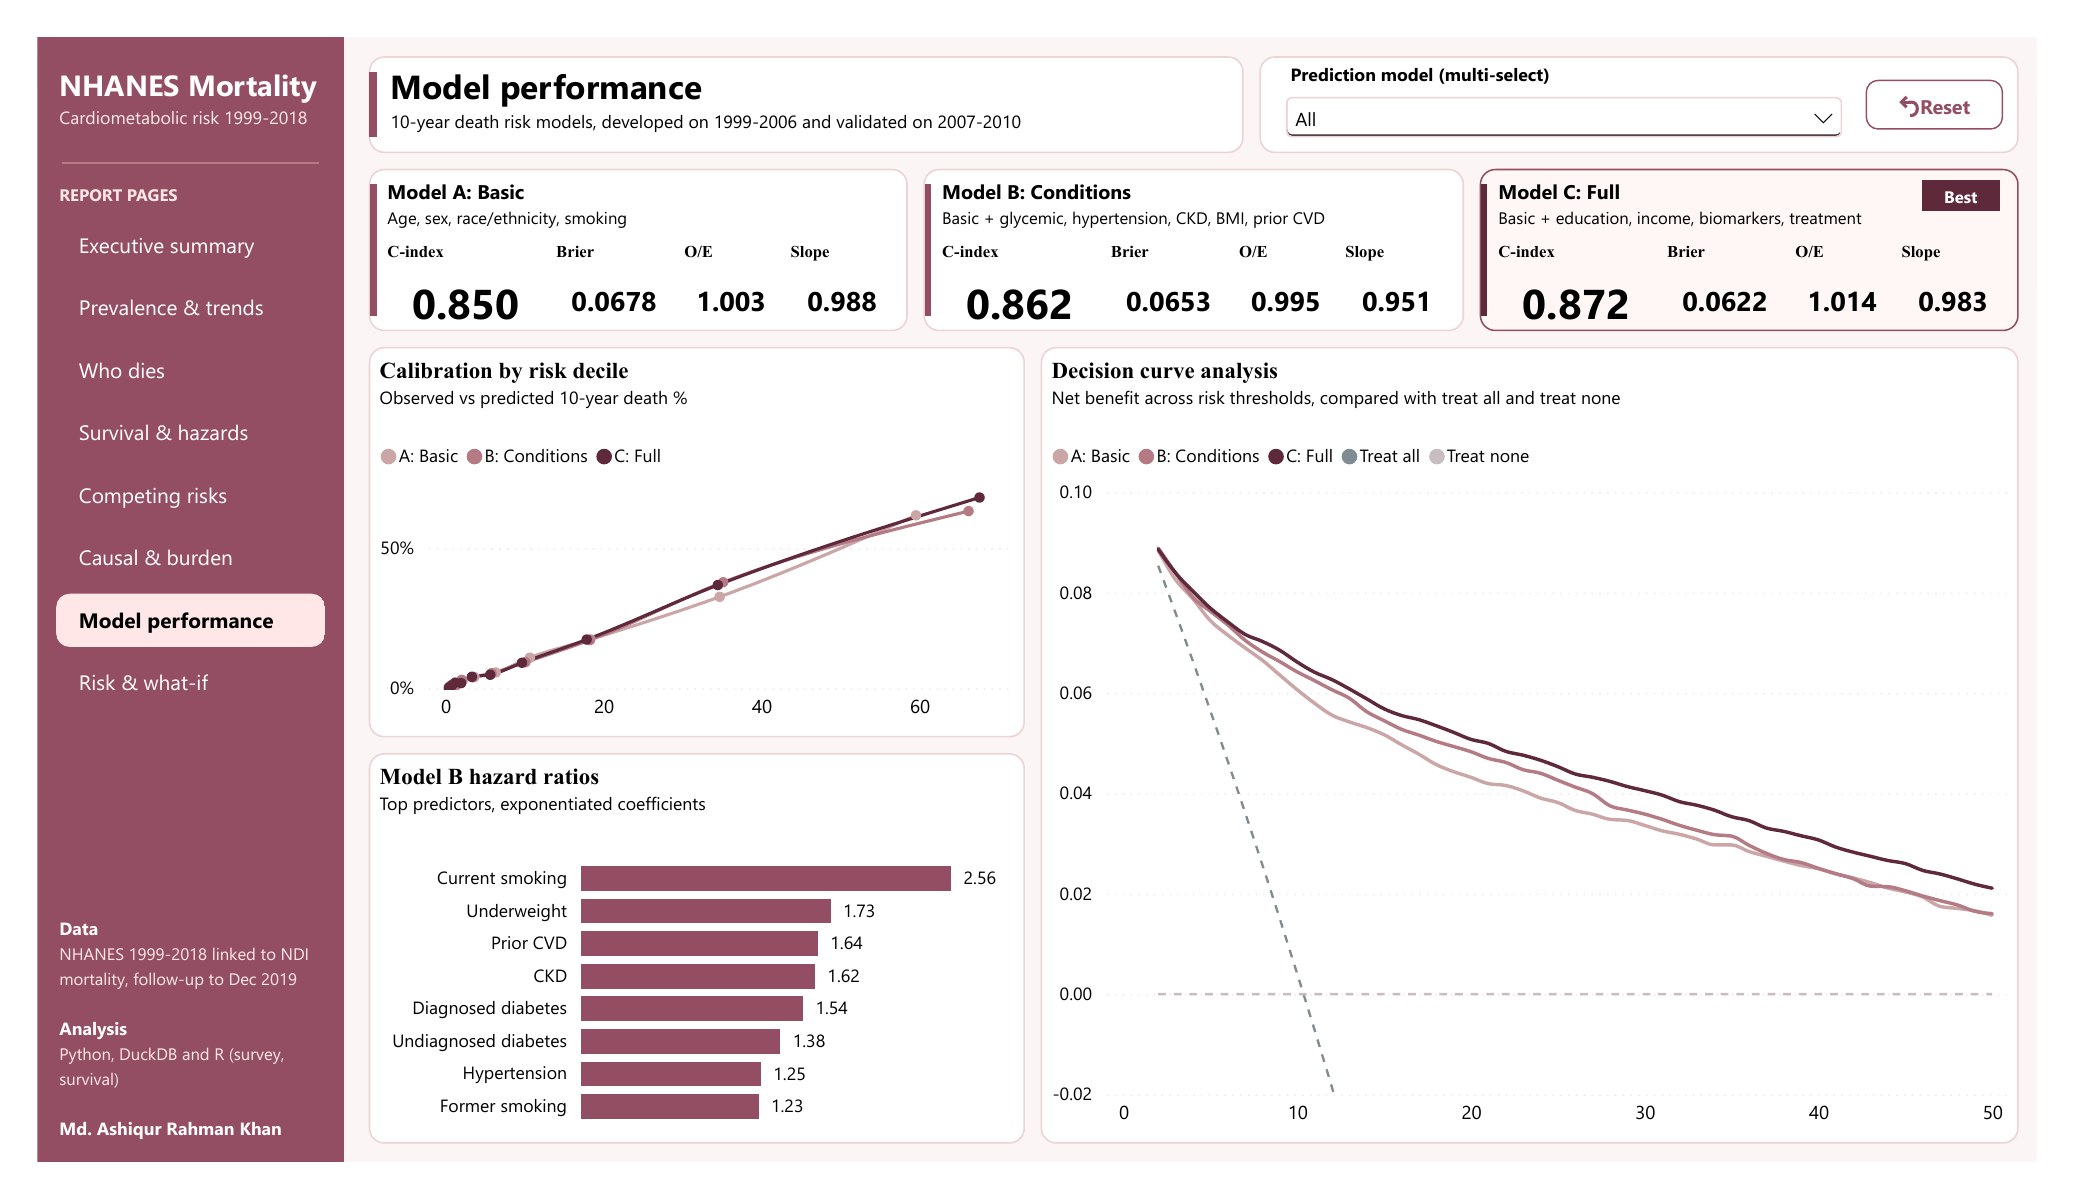

What the dashboard file says about the page in this screenshot:
{"tool":"powerbi","page":{"name":"Model performance","canvas":[1280,720],"ordinal":6},"visuals":[{"type":"shape","box":[0,0,196,720],"z":1100},{"type":"textbox","box":[12,16,176,56],"z":1200},{"type":"shape","box":[16,80,164,1],"z":1300},{"type":"textbox","box":[12,90,176,22],"z":1400},{"type":"actionButton","box":[12,116,172,34],"z":1500},{"type":"actionButton","box":[12,156,172,34],"z":1600},{"type":"actionButton","box":[12,196,172,34],"z":1700},{"type":"actionButton","box":[12,236,172,34],"z":1800},{"type":"actionButton","box":[12,276,172,34],"z":1900},{"type":"actionButton","box":[12,316,172,34],"z":2000},{"type":"actionButton","box":[12,356,172,34],"z":2100},{"type":"actionButton","box":[12,396,172,34],"z":2200},{"type":"textbox","box":[12,560,176,150],"z":2300},{"type":"shape","box":[212,12,560,62],"z":2400},{"type":"shape","box":[212,22,5,42],"z":2500},{"type":"textbox","box":[224,15,542,56],"z":2600},{"type":"shape","box":[782,12,486,62],"z":2700},{"type":"actionButton","box":[1170,27,88,32],"z":2800},{"type":"slicer","fields":{"Values":["dim_prediction_model.model"]},"box":[794,16,366,54],"z":2900},{"type":"shape","box":[212,84,345.3,104],"z":3000},{"type":"shape","box":[213,94,4,84],"z":3100},{"type":"textbox","box":[224,90,321.3,40],"z":3200},{"type":"card","title":"C-index","fields":{"Values":["_Measures.C-index"]},"box":[222,130,104,54],"z":3300},{"type":"card","title":"Brier","fields":{"Values":["_Measures.Brier Score"]},"box":[330,130,78,54],"z":3400},{"type":"card","title":"O/E","fields":{"Values":["_Measures.O/E Ratio"]},"box":[412,130,64,54],"z":3500},{"type":"card","title":"Slope","fields":{"Values":["_Measures.Calibration Slope"]},"box":[480,130,70,54],"z":3600},{"type":"shape","box":[567.3,84,345.3,104],"z":3700},{"type":"shape","box":[568.3,94,4,84],"z":3800},{"type":"textbox","box":[579.3,90,321.3,40],"z":3900},{"type":"card","title":"C-index","fields":{"Values":["_Measures.C-index"]},"box":[577.3,130,104,54],"z":4000},{"type":"card","title":"Brier","fields":{"Values":["_Measures.Brier Score"]},"box":[685.3,130,78,54],"z":4100},{"type":"card","title":"O/E","fields":{"Values":["_Measures.O/E Ratio"]},"box":[767.3,130,64,54],"z":4200},{"type":"card","title":"Slope","fields":{"Values":["_Measures.Calibration Slope"]},"box":[835.3,130,70,54],"z":4300},{"type":"shape","box":[922.7,84,345.3,104],"z":4400},{"type":"shape","box":[923.7,94,4,84],"z":4500},{"type":"textbox","box":[934.7,90,265.3,40],"z":4600},{"type":"textbox","box":[1206,91,50,20],"z":4700},{"type":"card","title":"C-index","fields":{"Values":["_Measures.C-index"]},"box":[932.7,130,104,54],"z":4800},{"type":"card","title":"Brier","fields":{"Values":["_Measures.Brier Score"]},"box":[1040.7,130,78,54],"z":4900},{"type":"card","title":"O/E","fields":{"Values":["_Measures.O/E Ratio"]},"box":[1122.7,130,64,54],"z":5000},{"type":"card","title":"Slope","fields":{"Values":["_Measures.Calibration Slope"]},"box":[1190.7,130,70,54],"z":5100},{"type":"lineChart","title":"Calibration by risk decile","fields":{"Category":["model_calibration.predicted_pct"],"Series":["dim_prediction_model.model"],"Y":["_Measures.Calibration Observed %"]},"box":[212,198,420,250],"z":5200},{"type":"clusteredBarChart","title":"Model B hazard ratios","fields":{"Category":["model_coefficients.Term Label"],"Y":["_Measures.Coefficient HR"]},"box":[212,458,420,250],"z":5300},{"type":"lineChart","title":"Decision curve analysis","fields":{"Category":["model_decision_curve.threshold_pct"],"Series":["dim_prediction_model.model"],"Y":["_Measures.Net Benefit"]},"box":[642,198,626,510],"z":5400}]}

Visuals, with their boxes on the page's 1280x720 design canvas (x1, y1, x2, y2). These are canvas units, not pixel positions in the 2075x1200 screenshot, which may show the page scaled, cropped or inside an application window:
shape: (left=0, top=0, right=196, bottom=720)
textbox: (left=12, top=16, right=188, bottom=72)
shape: (left=16, top=80, right=180, bottom=81)
textbox: (left=12, top=90, right=188, bottom=112)
actionButton: (left=12, top=116, right=184, bottom=150)
actionButton: (left=12, top=156, right=184, bottom=190)
actionButton: (left=12, top=196, right=184, bottom=230)
actionButton: (left=12, top=236, right=184, bottom=270)
actionButton: (left=12, top=276, right=184, bottom=310)
actionButton: (left=12, top=316, right=184, bottom=350)
actionButton: (left=12, top=356, right=184, bottom=390)
actionButton: (left=12, top=396, right=184, bottom=430)
textbox: (left=12, top=560, right=188, bottom=710)
shape: (left=212, top=12, right=772, bottom=74)
shape: (left=212, top=22, right=217, bottom=64)
textbox: (left=224, top=15, right=766, bottom=71)
shape: (left=782, top=12, right=1268, bottom=74)
actionButton: (left=1170, top=27, right=1258, bottom=59)
slicer - dim_prediction_model.model: (left=794, top=16, right=1160, bottom=70)
shape: (left=212, top=84, right=557, bottom=188)
shape: (left=213, top=94, right=217, bottom=178)
textbox: (left=224, top=90, right=545, bottom=130)
"C-index" card: (left=222, top=130, right=326, bottom=184)
"Brier" card: (left=330, top=130, right=408, bottom=184)
"O/E" card: (left=412, top=130, right=476, bottom=184)
"Slope" card: (left=480, top=130, right=550, bottom=184)
shape: (left=567, top=84, right=913, bottom=188)
shape: (left=568, top=94, right=572, bottom=178)
textbox: (left=579, top=90, right=901, bottom=130)
"C-index" card: (left=577, top=130, right=681, bottom=184)
"Brier" card: (left=685, top=130, right=763, bottom=184)
"O/E" card: (left=767, top=130, right=831, bottom=184)
"Slope" card: (left=835, top=130, right=905, bottom=184)
shape: (left=923, top=84, right=1268, bottom=188)
shape: (left=924, top=94, right=928, bottom=178)
textbox: (left=935, top=90, right=1200, bottom=130)
textbox: (left=1206, top=91, right=1256, bottom=111)
"C-index" card: (left=933, top=130, right=1037, bottom=184)
"Brier" card: (left=1041, top=130, right=1119, bottom=184)
"O/E" card: (left=1123, top=130, right=1187, bottom=184)
"Slope" card: (left=1191, top=130, right=1261, bottom=184)
"Calibration by risk decile" lineChart: (left=212, top=198, right=632, bottom=448)
"Model B hazard ratios" clusteredBarChart: (left=212, top=458, right=632, bottom=708)
"Decision curve analysis" lineChart: (left=642, top=198, right=1268, bottom=708)
